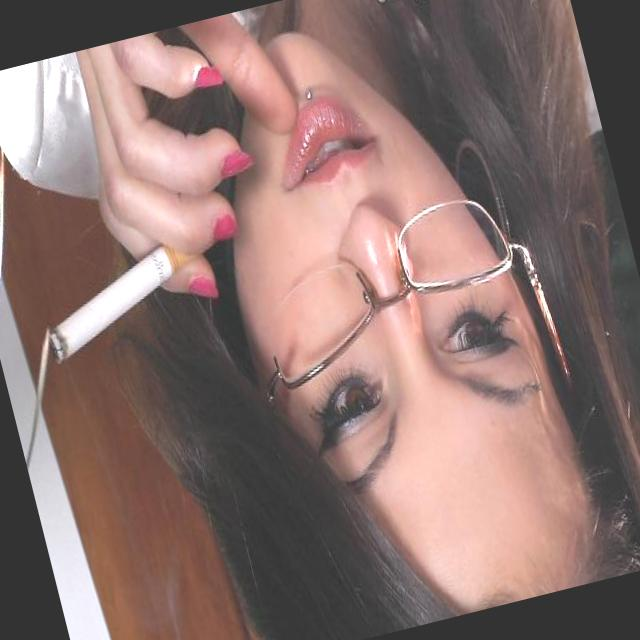cigarette: (1, 186, 254, 396)
